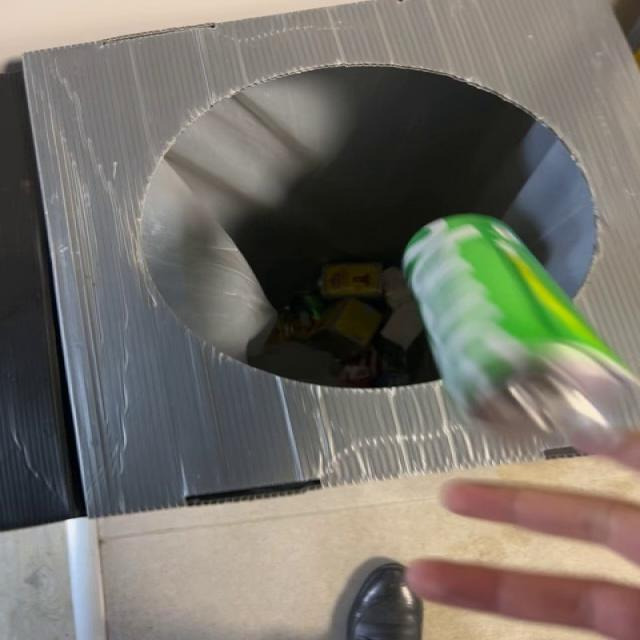bin: (21, 0, 639, 516)
metal: (403, 215, 637, 452)
